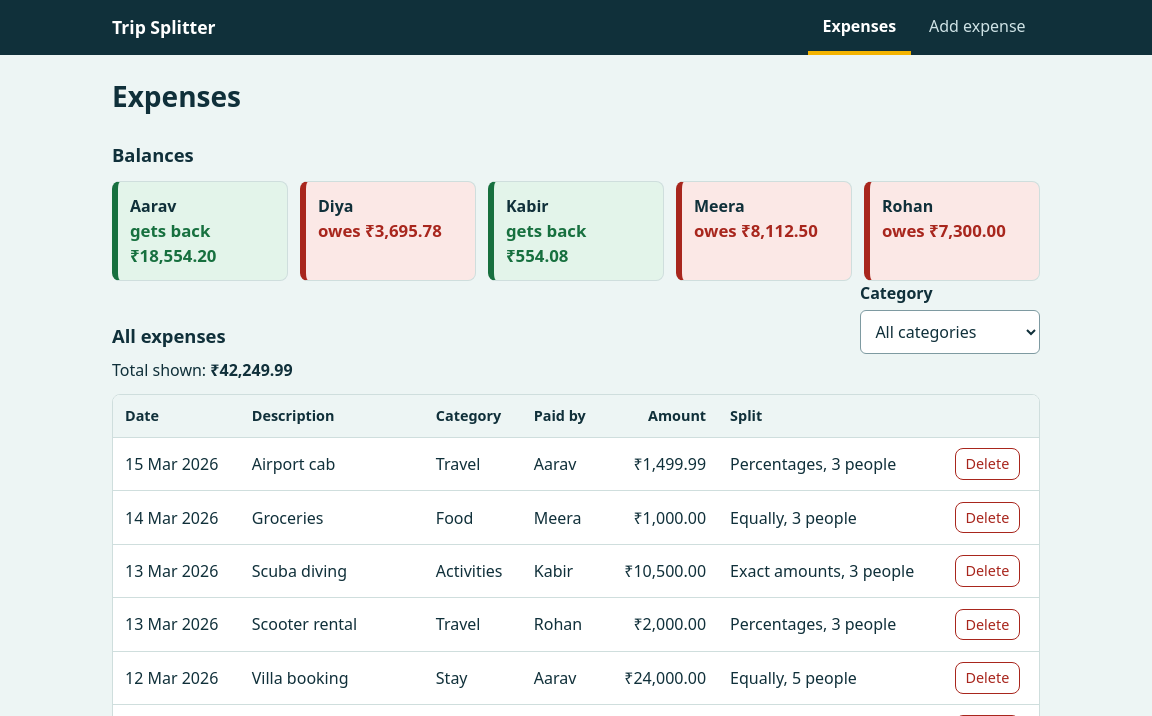
Scenario: Expenses page › deletes only after confirming, and balances update
This screenshot has width=1152, height=716.
Click the button with aria-label "Delete Airport cab" at (987, 464), box [955, 448, 1020, 480]
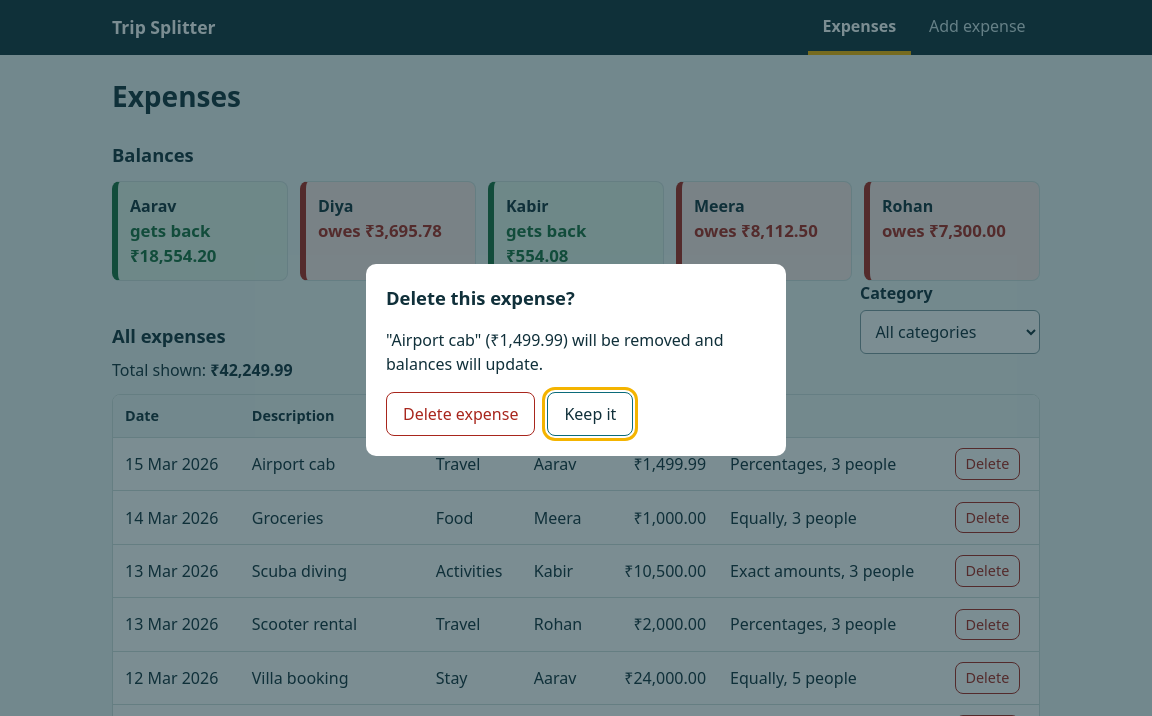
Click the button "Keep it" at (590, 414), box [547, 392, 633, 436]
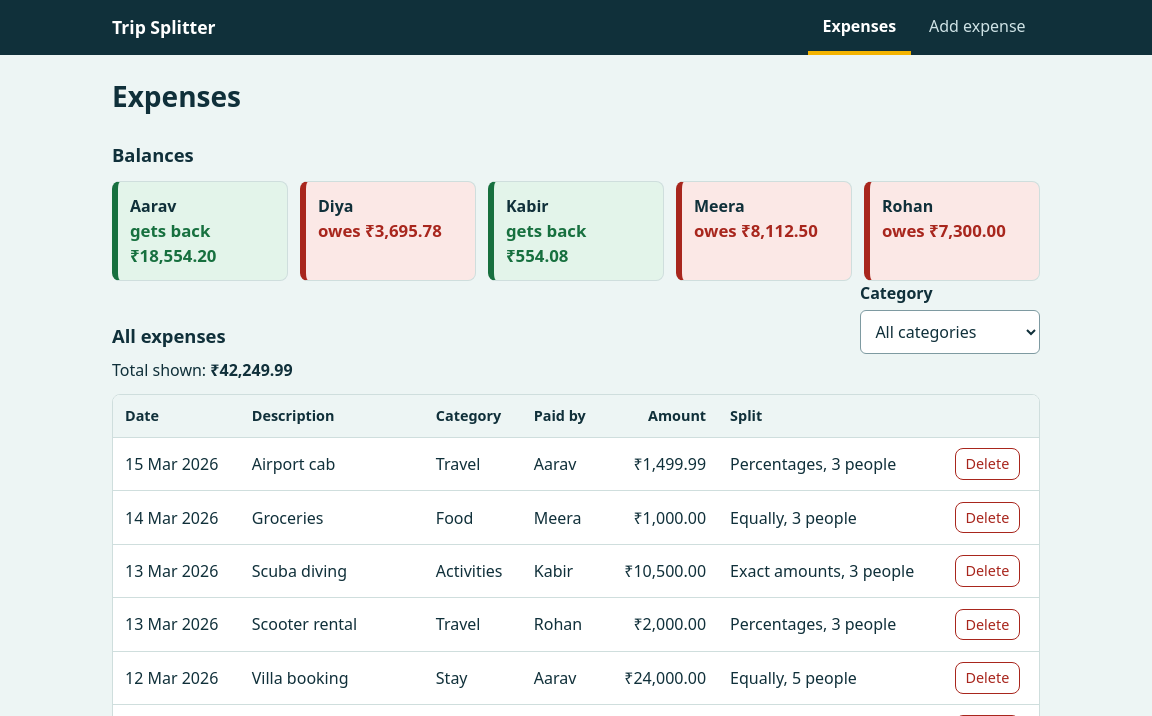
Click the button with aria-label "Delete Airport cab" at (987, 464), box [955, 448, 1020, 480]
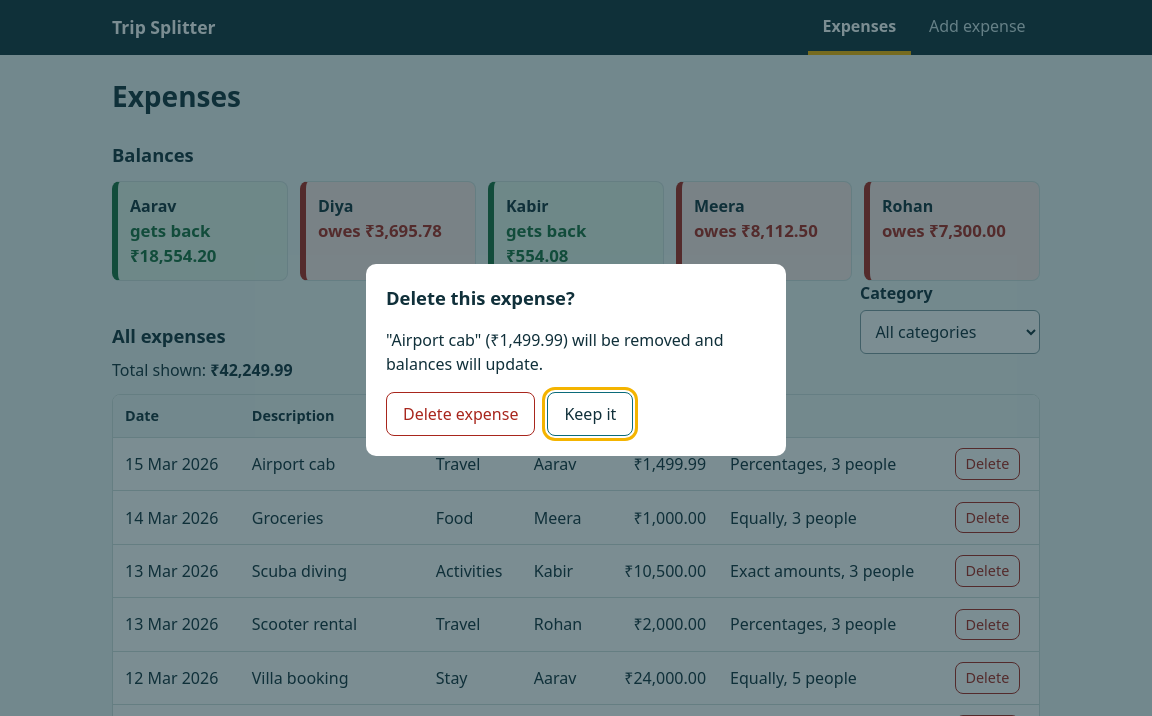
Click the button "Delete expense" at (461, 414), box [386, 392, 535, 436]
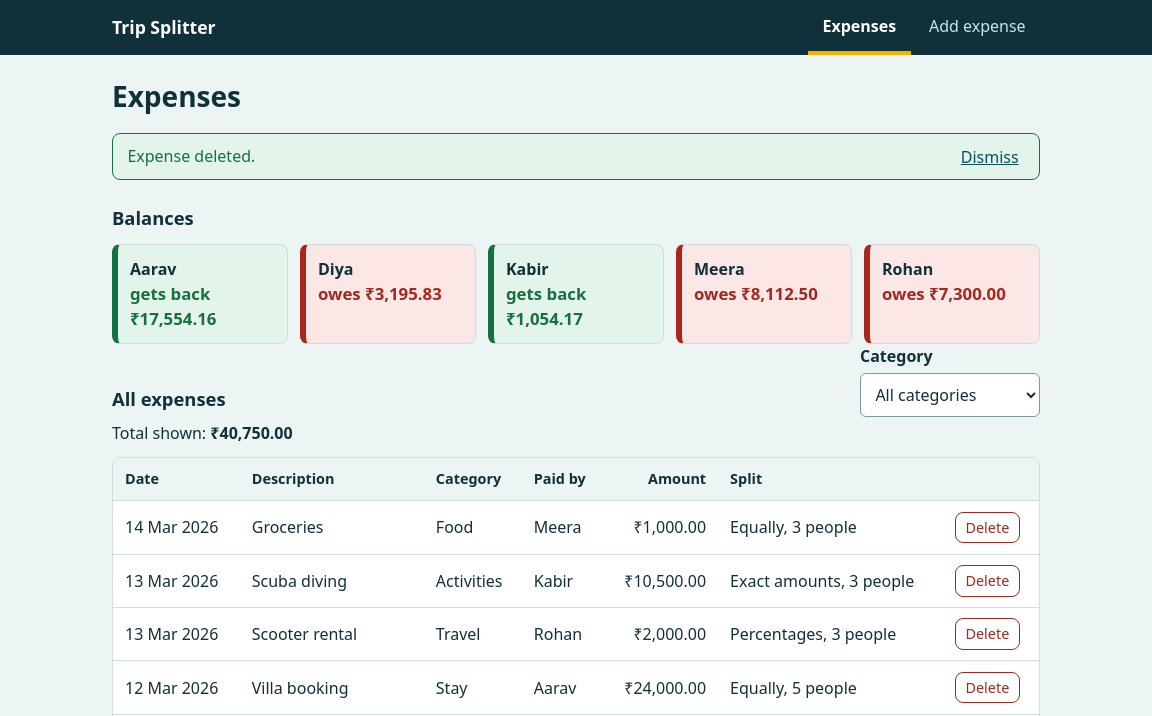
Expected: the text "Airport cab" is gone
